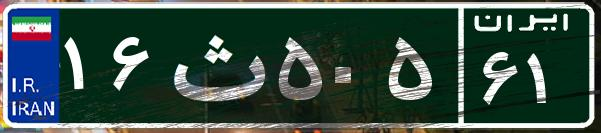0: (330, 28, 385, 110)
1: (57, 26, 110, 107), (525, 38, 570, 115)
5: (385, 28, 445, 110), (273, 28, 330, 110)
6: (475, 38, 525, 113), (110, 28, 158, 105)
ث: (158, 15, 273, 115)
